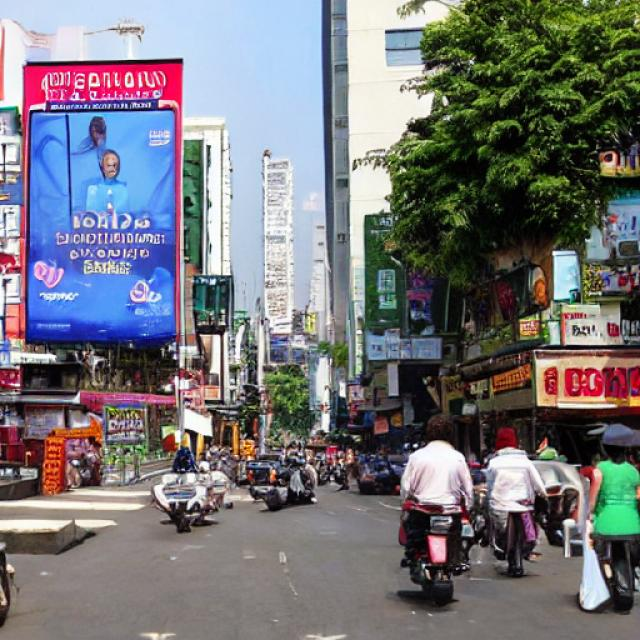Billboard: (19, 57, 188, 356)
